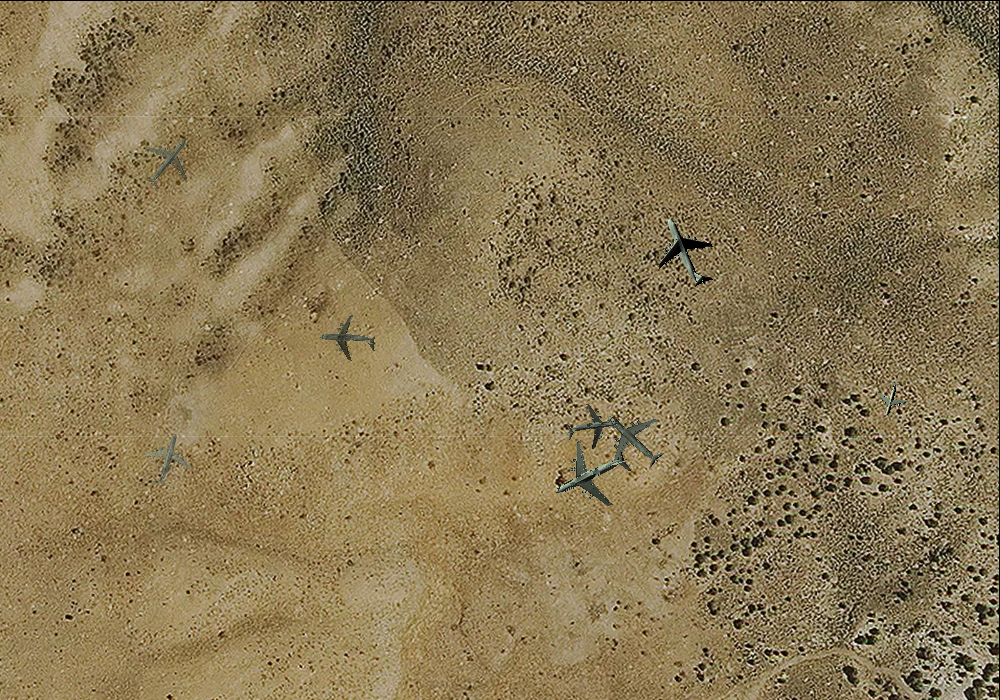plane: (539, 424, 643, 526), (641, 204, 732, 299), (587, 393, 679, 485), (128, 122, 206, 201), (135, 426, 198, 492), (563, 399, 622, 455), (318, 312, 376, 367), (871, 377, 912, 419)
